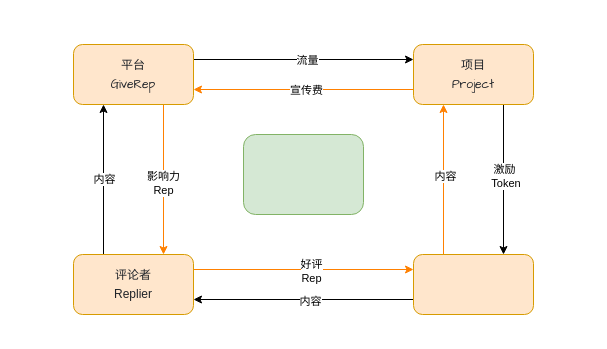
Some shapes in this 607 by 349 pixel diagram are drawn without their labels. The shapes that lost their labels are listed below. From the top down, each one's box as (x1, y1, x2, y2) in pixels, then its label:
(242, 134, 364, 214): GiveRep 商业模式 0xJune @cryptojune7
(412, 254, 534, 314): 内容创作者 Content creator
